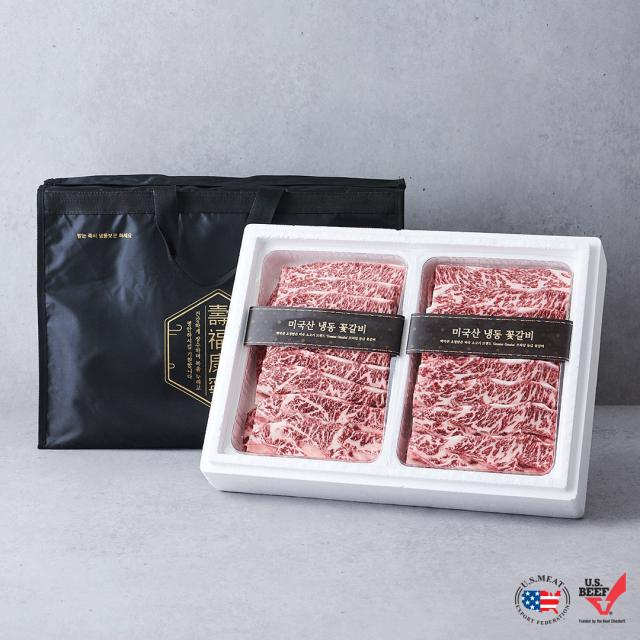beef: (417, 254, 562, 476), (242, 245, 392, 458)
